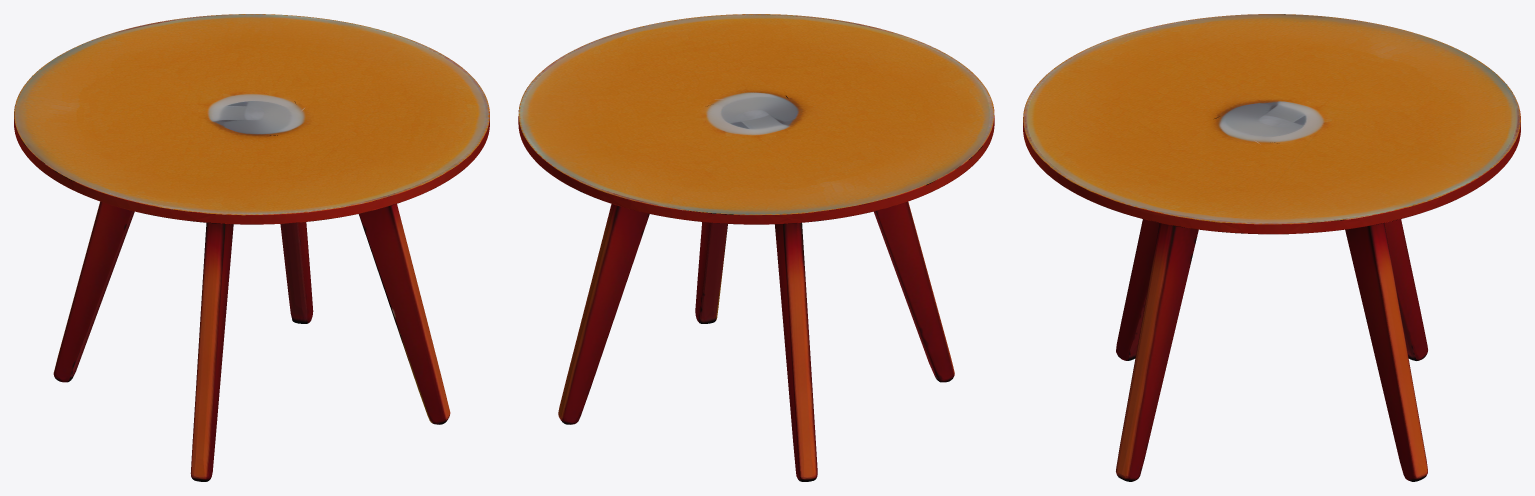
The model's file is edited_mesh.glb.
3 renders of one model, left to right at view 1: azimuth 30°, elevation 25°; view 2: azimuth 150°, elevation 25°; view 3: azimuth 270°, elevation 25°, orthographic. The views are drawn at different scales.
Parts seen in each view (by area): view 1: solid_001_wire; view 2: solid_001_wire; view 3: solid_001_wire.
Part boxes in pixels (box(x1,y1,x2,y2)): solid_001_wire: box(14, 14, 489, 481); solid_001_wire: box(518, 14, 994, 481); solid_001_wire: box(1023, 14, 1520, 481).
Bounding box in the file's own units: 1.72 × 1.14 × 1.72.
1 material, 1 textured.
